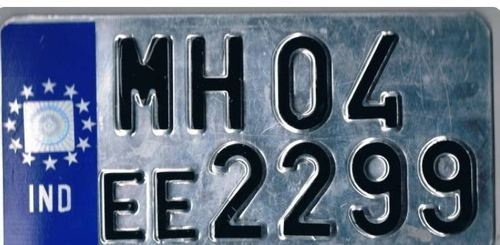plate: (6, 10, 495, 245)
